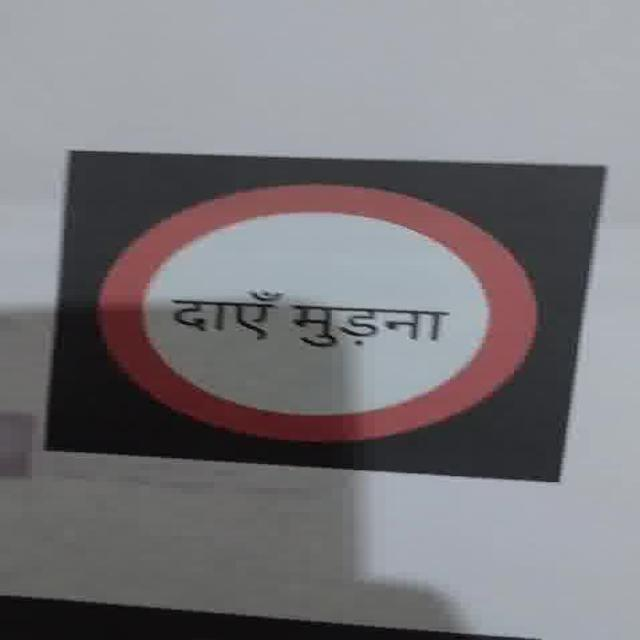hindiright: (44, 149, 605, 481), (168, 288, 452, 349)
